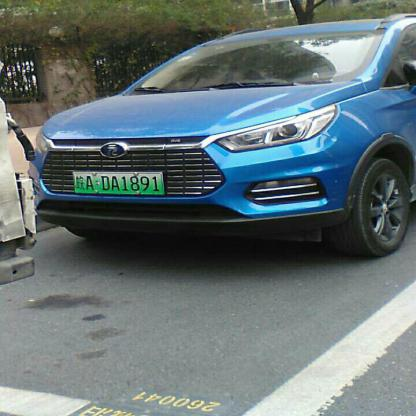lp: (70, 171, 164, 194)
